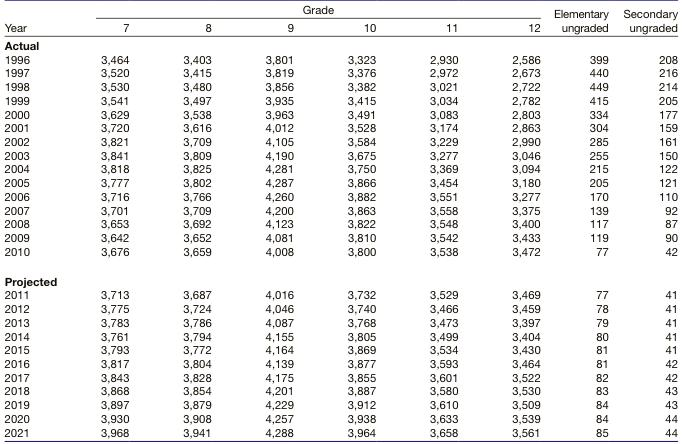table: (3, 3, 677, 438)
table column: (64, 3, 155, 438), (319, 3, 402, 438), (155, 3, 237, 438), (237, 3, 319, 438), (402, 3, 484, 438), (546, 3, 615, 438), (484, 3, 546, 438), (615, 3, 677, 438), (3, 3, 64, 438)
table column header: (3, 3, 677, 36)
table projected row header: (3, 266, 677, 288), (3, 36, 677, 52)
table row: (3, 244, 677, 266), (3, 266, 677, 288), (3, 18, 677, 36), (3, 36, 677, 52), (3, 3, 677, 18), (3, 52, 677, 66), (3, 66, 677, 80), (3, 93, 677, 107), (3, 107, 677, 121), (3, 121, 677, 135), (3, 148, 677, 162), (3, 162, 677, 176), (3, 189, 677, 203), (3, 203, 677, 217), (3, 217, 677, 231), (3, 288, 677, 302), (3, 315, 677, 329), (3, 329, 677, 343), (3, 343, 677, 357), (3, 370, 677, 384), (3, 384, 677, 398), (3, 411, 677, 425), (3, 80, 677, 93), (3, 135, 677, 148), (3, 176, 677, 189), (3, 231, 677, 244), (3, 302, 677, 315), (3, 357, 677, 370), (3, 398, 677, 411), (3, 425, 677, 438)
table spanning cell: (64, 3, 546, 18), (546, 3, 615, 36), (615, 3, 677, 36), (3, 3, 64, 36)
